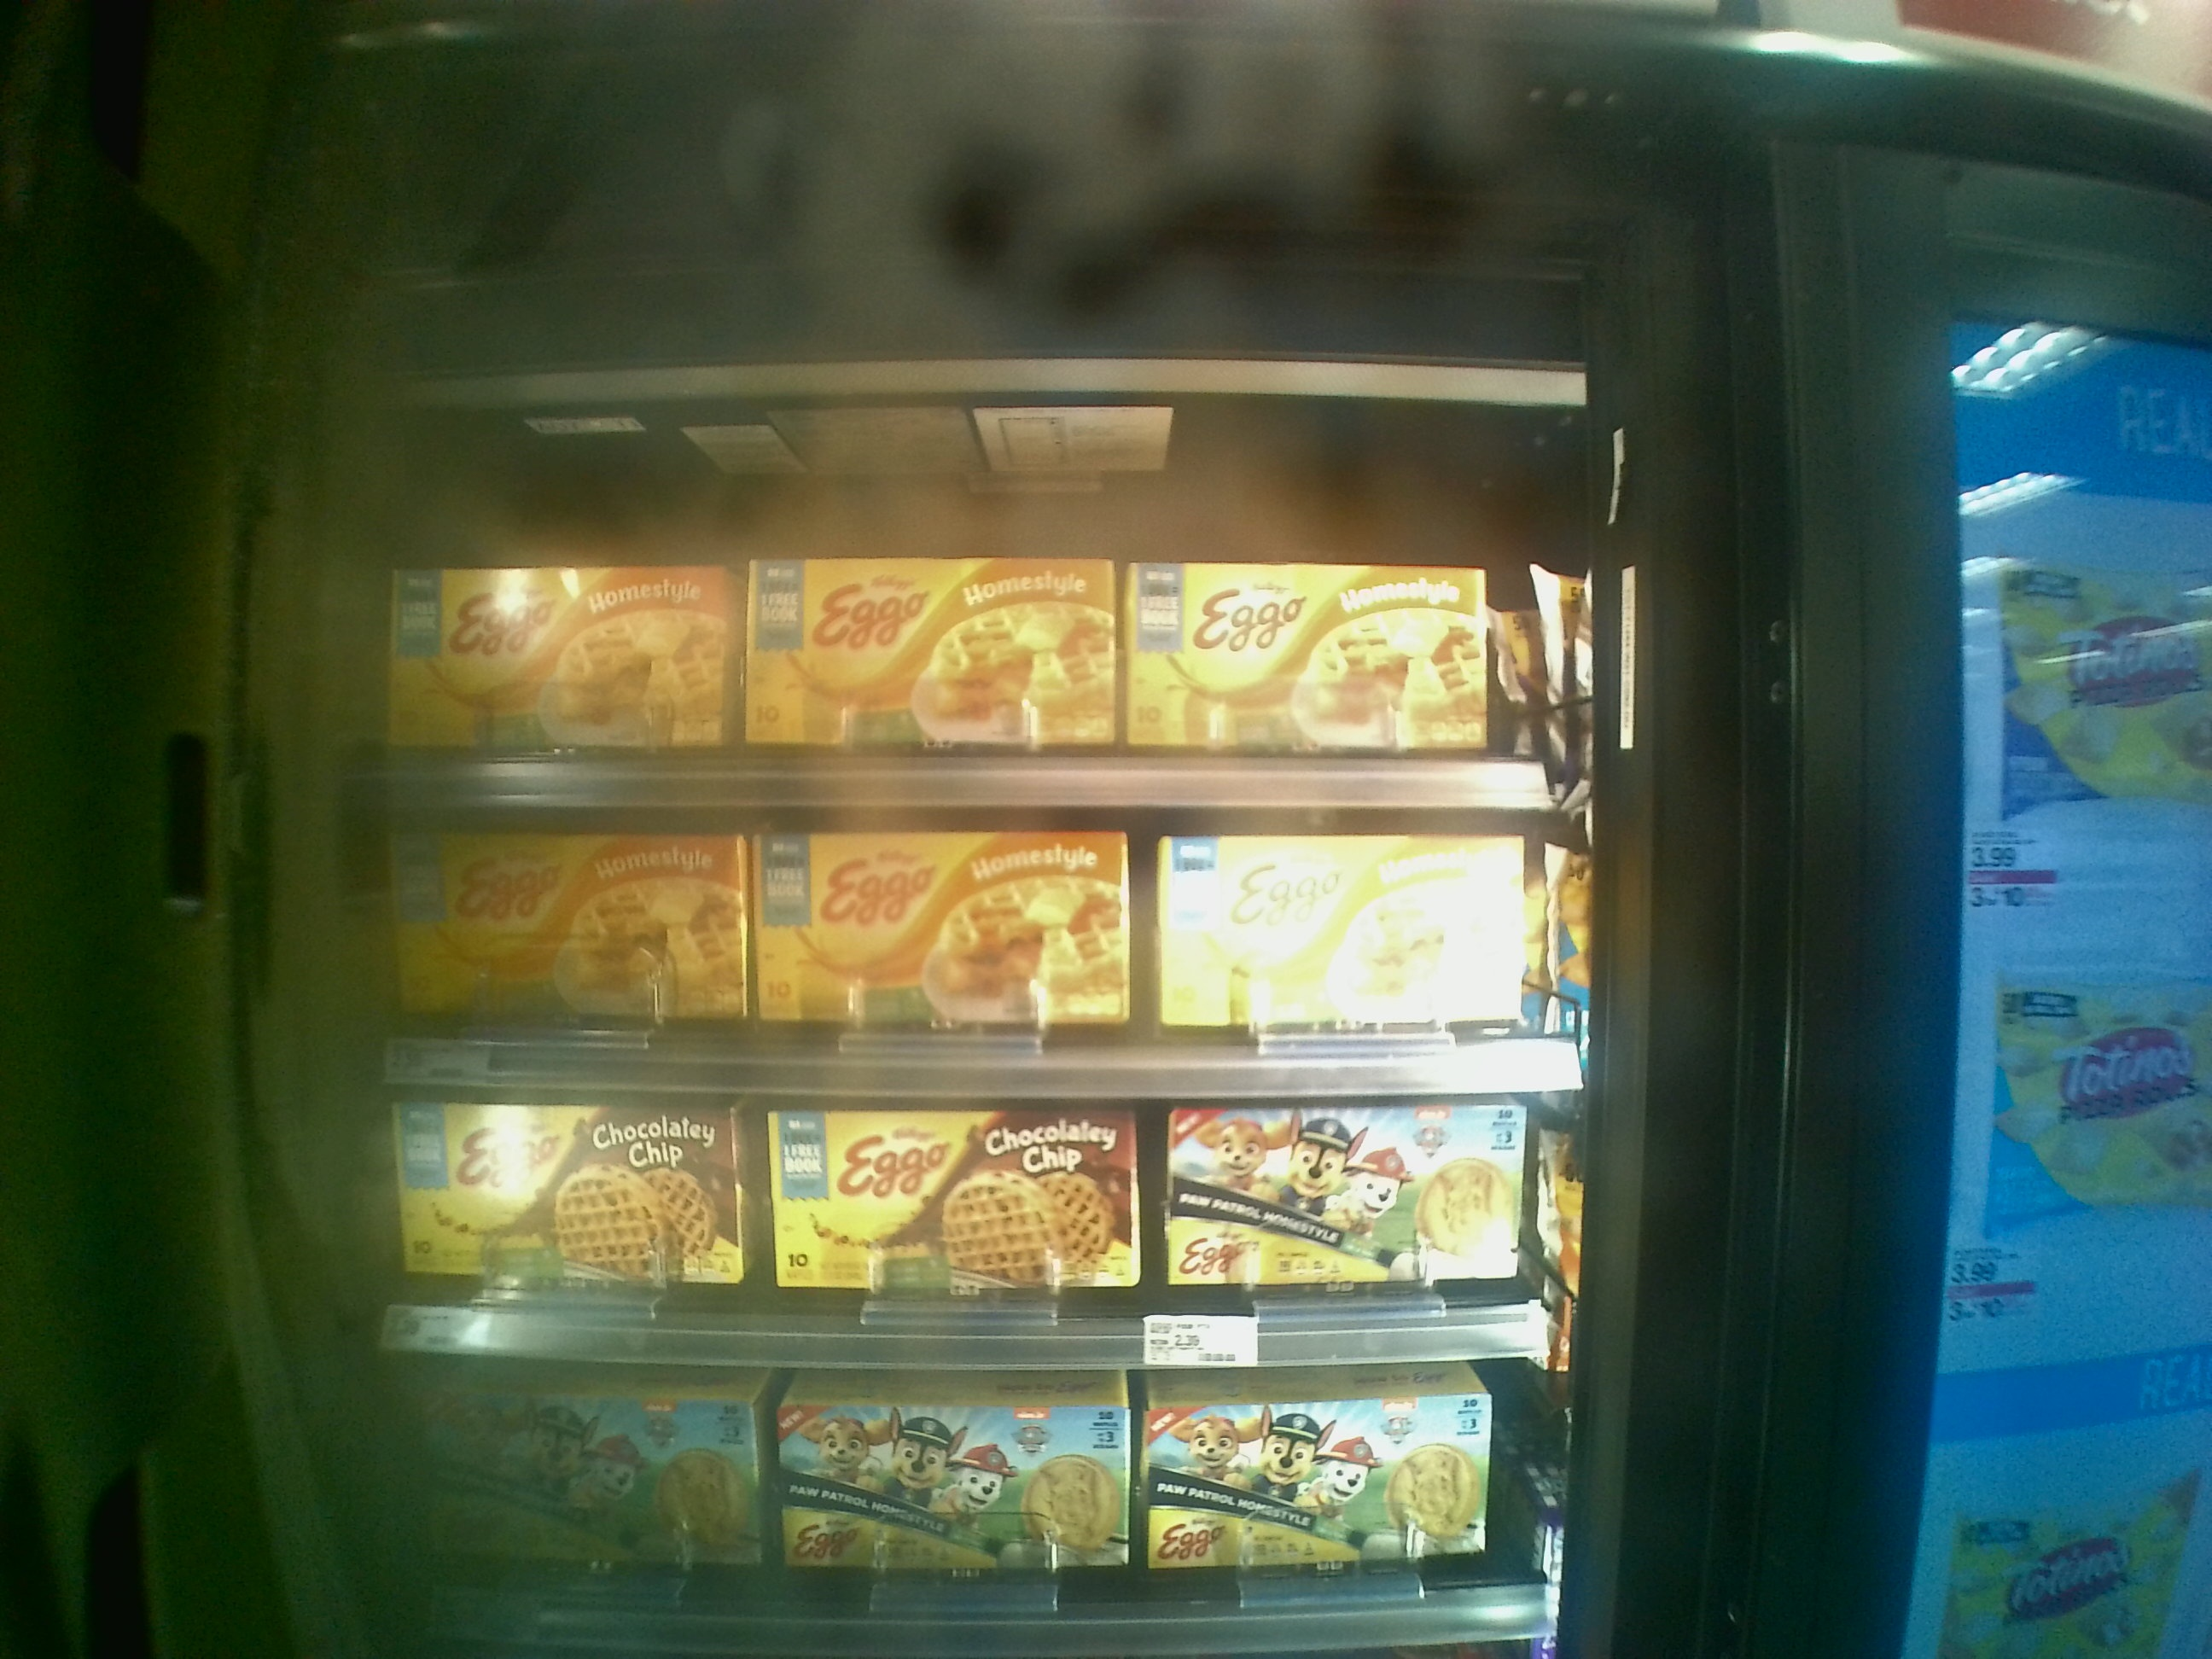shelf: (371, 361, 1583, 803), (381, 1070, 1538, 1368)
